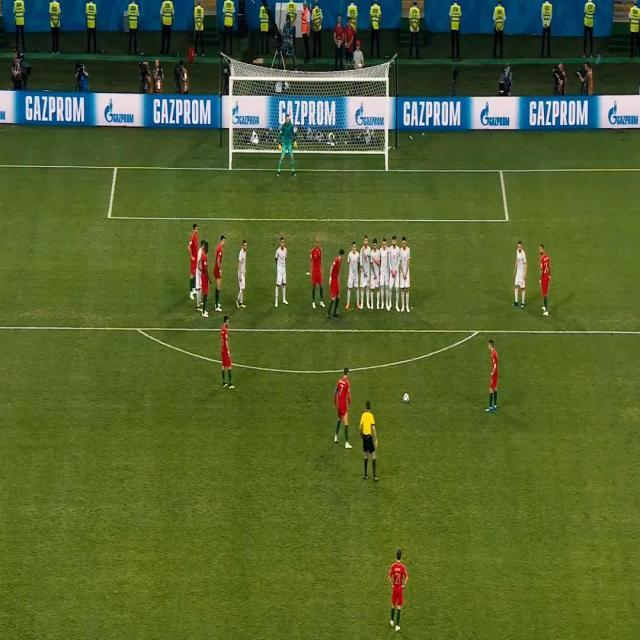ball: (401, 389, 411, 405)
goalkeeper: (274, 107, 302, 181)
player: (384, 545, 412, 634), (330, 362, 356, 450), (217, 315, 237, 390), (271, 234, 291, 309), (325, 247, 345, 321), (483, 336, 502, 413), (511, 238, 530, 311), (536, 239, 553, 319), (309, 236, 326, 310), (344, 240, 361, 313), (398, 234, 413, 313), (234, 237, 250, 310), (213, 231, 227, 312), (186, 220, 200, 298), (388, 234, 401, 311), (359, 237, 372, 310), (199, 240, 211, 318), (379, 238, 391, 310), (370, 238, 381, 310), (196, 240, 206, 315)
referee: (358, 397, 383, 483)
